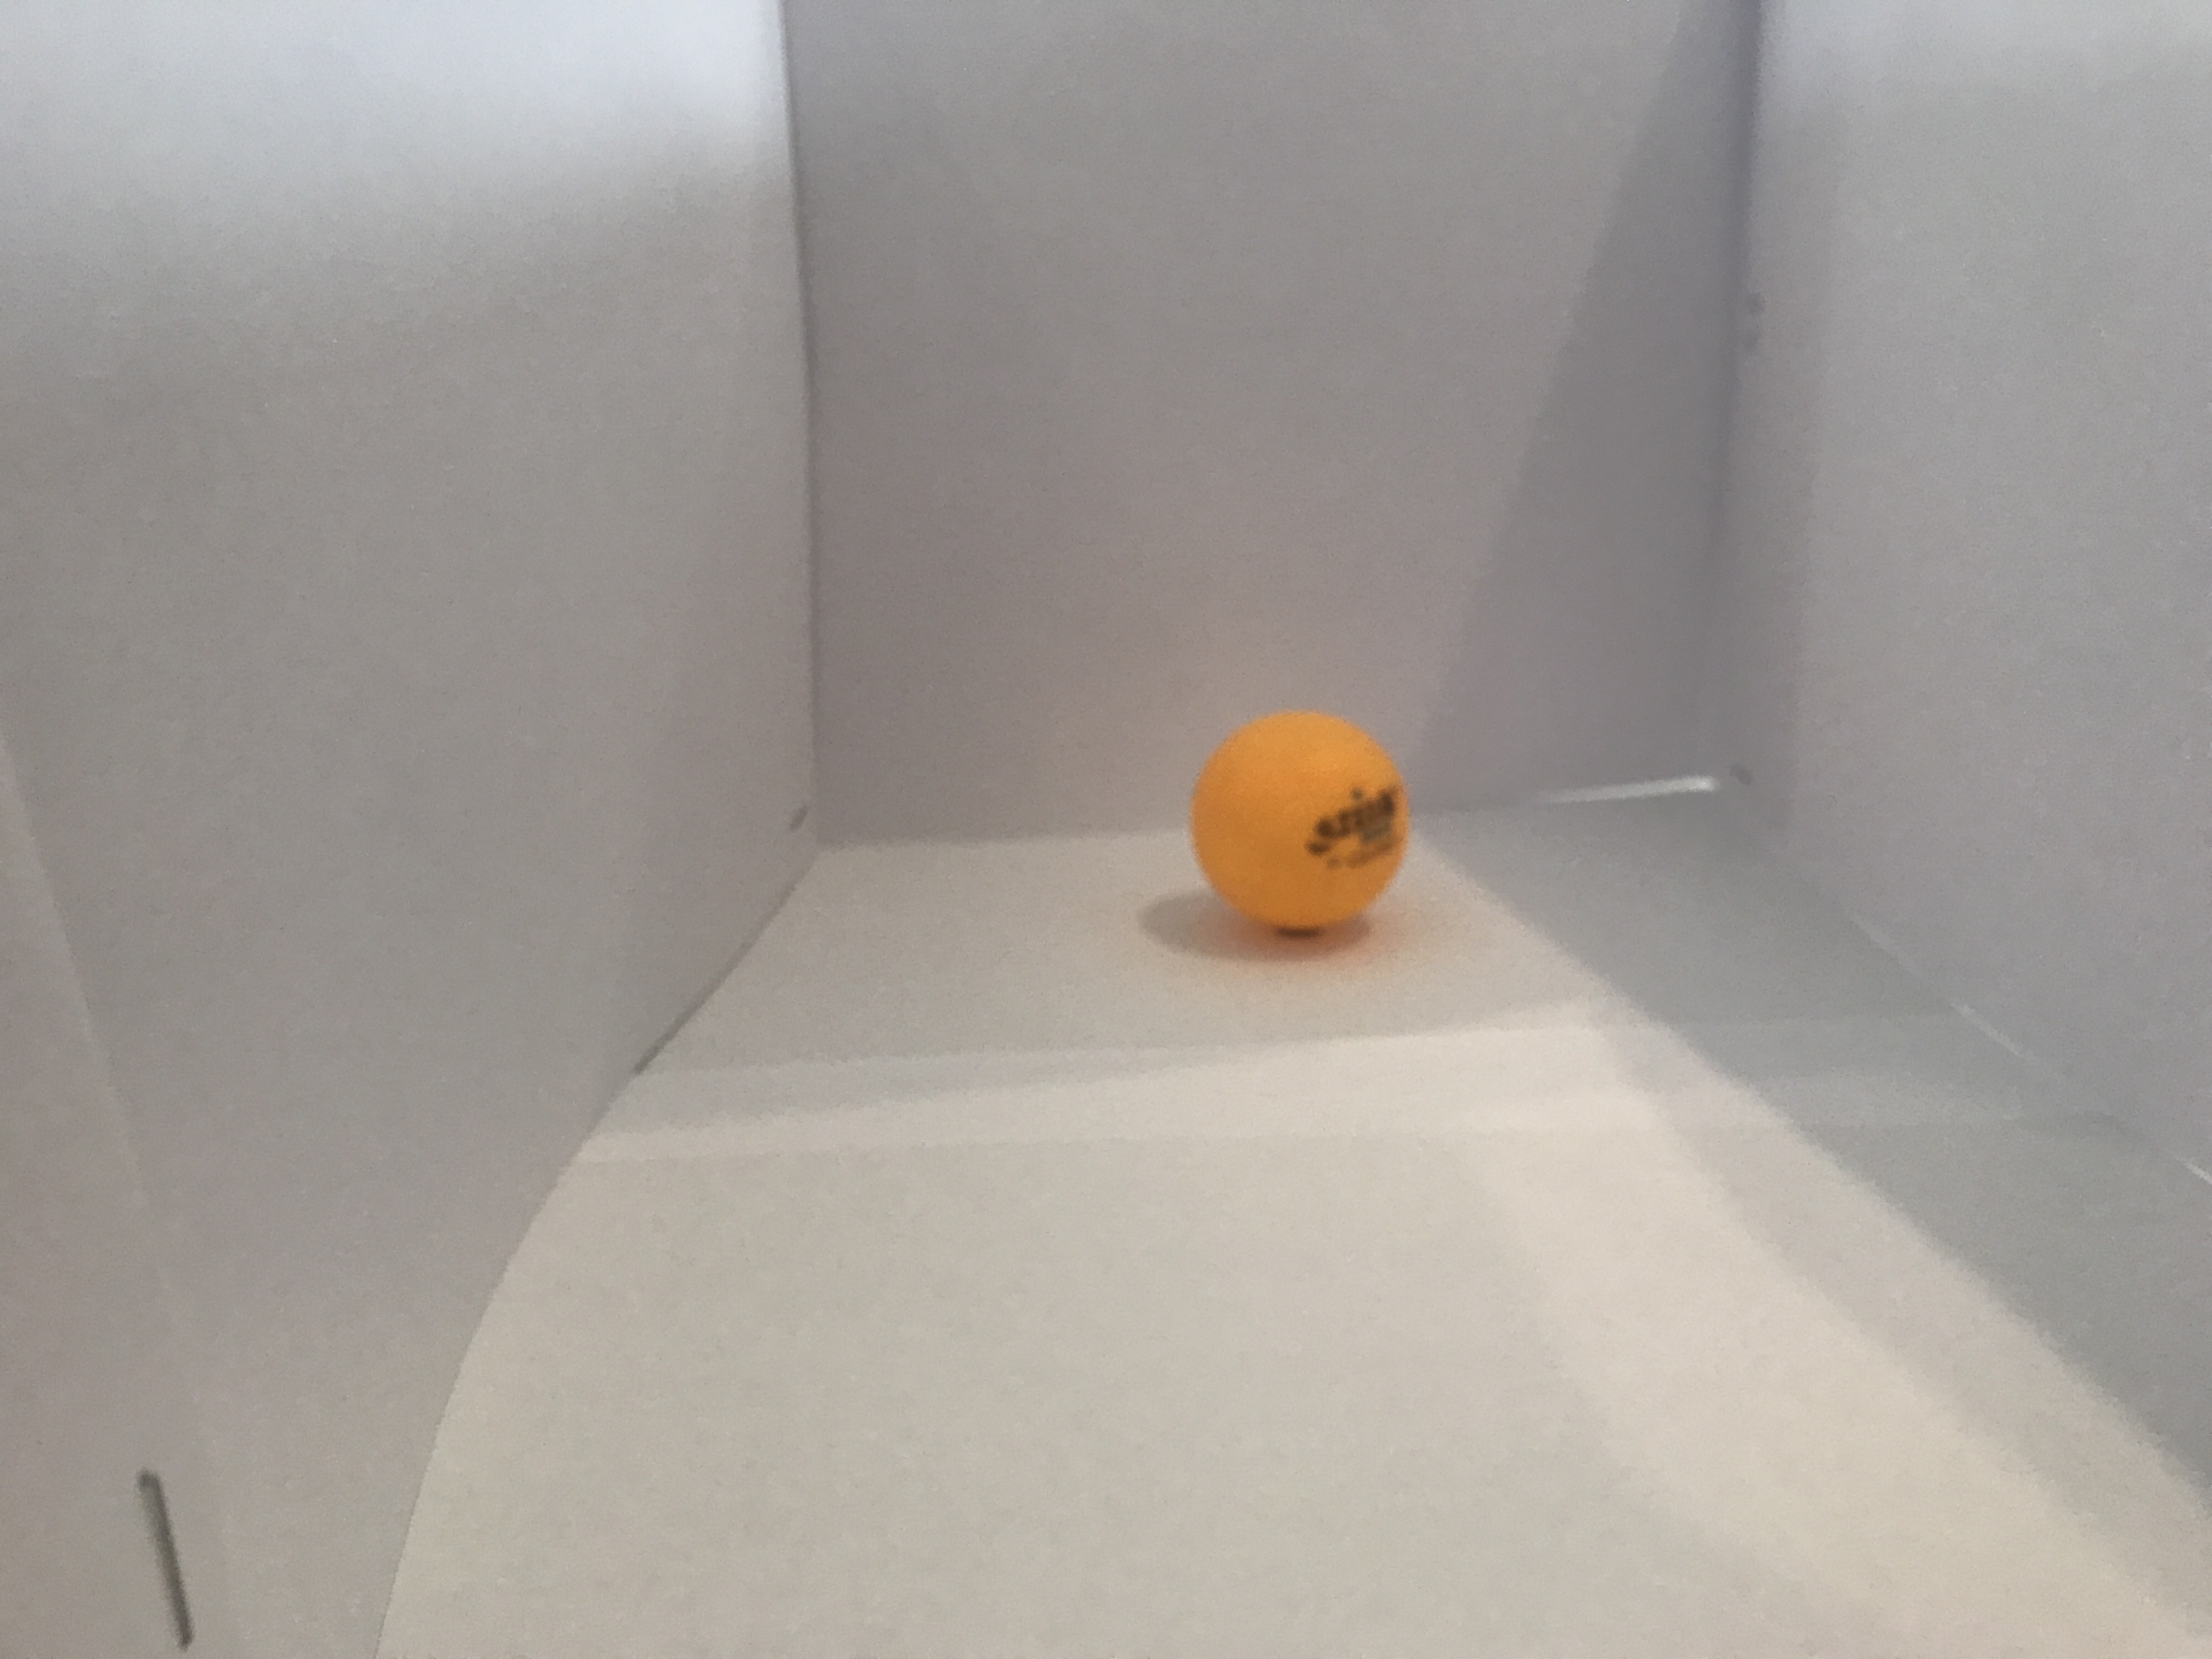pp: (1186, 708, 1414, 939)
